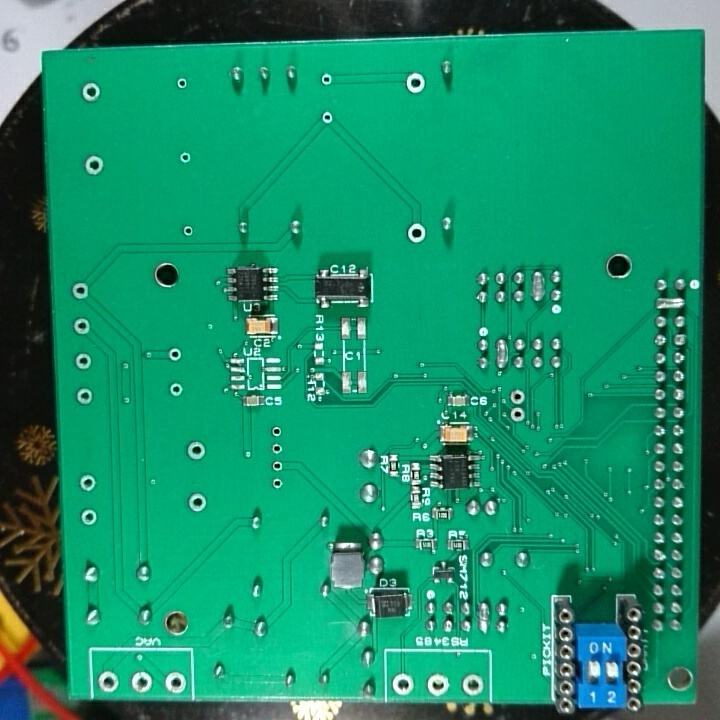F: (420, 670, 452, 697), (127, 666, 156, 695), (390, 669, 416, 700), (184, 437, 210, 466), (96, 667, 122, 695), (79, 78, 104, 106), (404, 220, 430, 246), (459, 672, 487, 696), (162, 667, 186, 695), (82, 153, 106, 180), (186, 489, 210, 515), (404, 69, 427, 95), (75, 472, 101, 495), (68, 280, 93, 303), (77, 506, 100, 529), (73, 387, 98, 408), (71, 314, 93, 337), (72, 350, 94, 373), (507, 388, 530, 407), (507, 404, 528, 424), (164, 344, 184, 364), (166, 379, 184, 401), (319, 70, 338, 89), (320, 109, 337, 129), (174, 75, 190, 95), (178, 148, 193, 167), (270, 473, 285, 492), (268, 423, 284, 440), (270, 439, 284, 458), (270, 456, 284, 475), (181, 224, 196, 240)
P: (653, 292, 687, 312), (476, 600, 493, 636), (530, 269, 545, 306), (494, 336, 509, 370)
